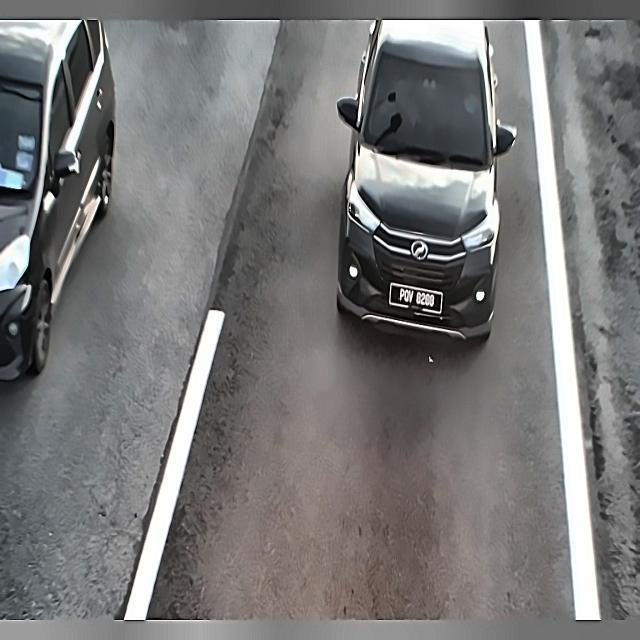car: (388, 278, 444, 324)
